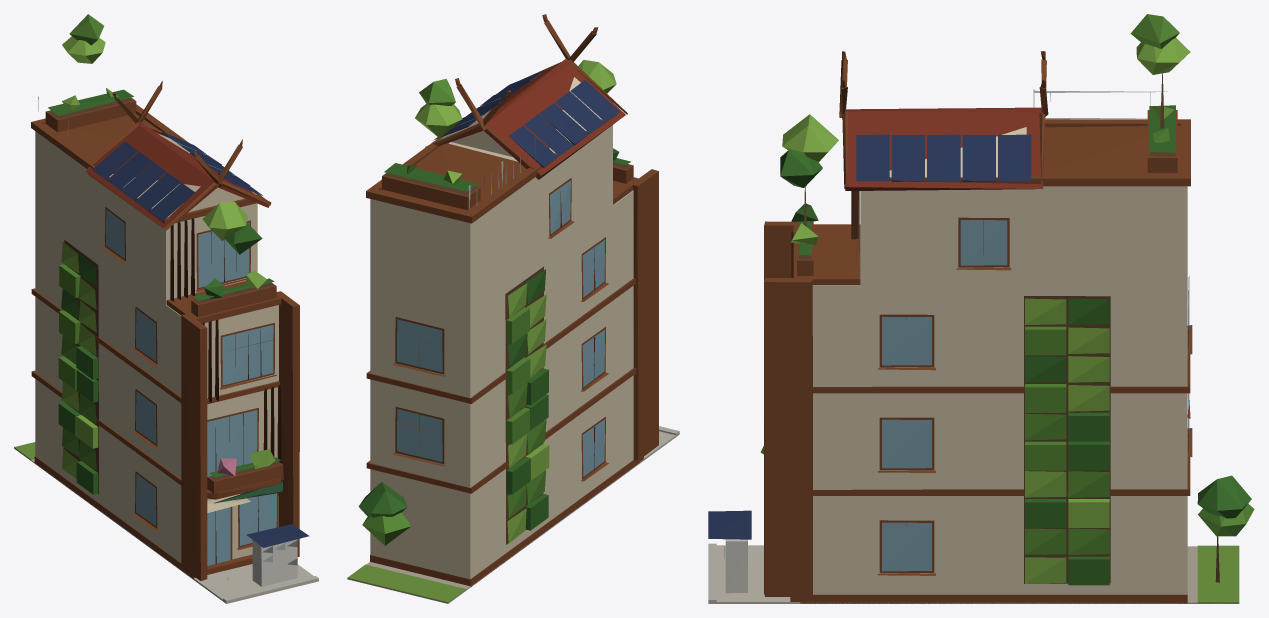
Rendered from bay2_one.glb.
3 views of the same model, side by side, from view 1: azimuth 30°, elevation 25°; view 2: azimuth 150°, elevation 25°; view 3: azimuth 270°, elevation 25° (orthographic). The views are drawn at different scales.
Visible parts, largest first — view 1: body; view 2: body; view 3: body.
Boxes of the visible parts, bbox=[...] form: body: bbox=[14, 14, 318, 603]; body: bbox=[347, 14, 679, 603]; body: bbox=[708, 14, 1254, 603].
Size of the model in its own units: 4.66 by 18.43 by 16.36.
